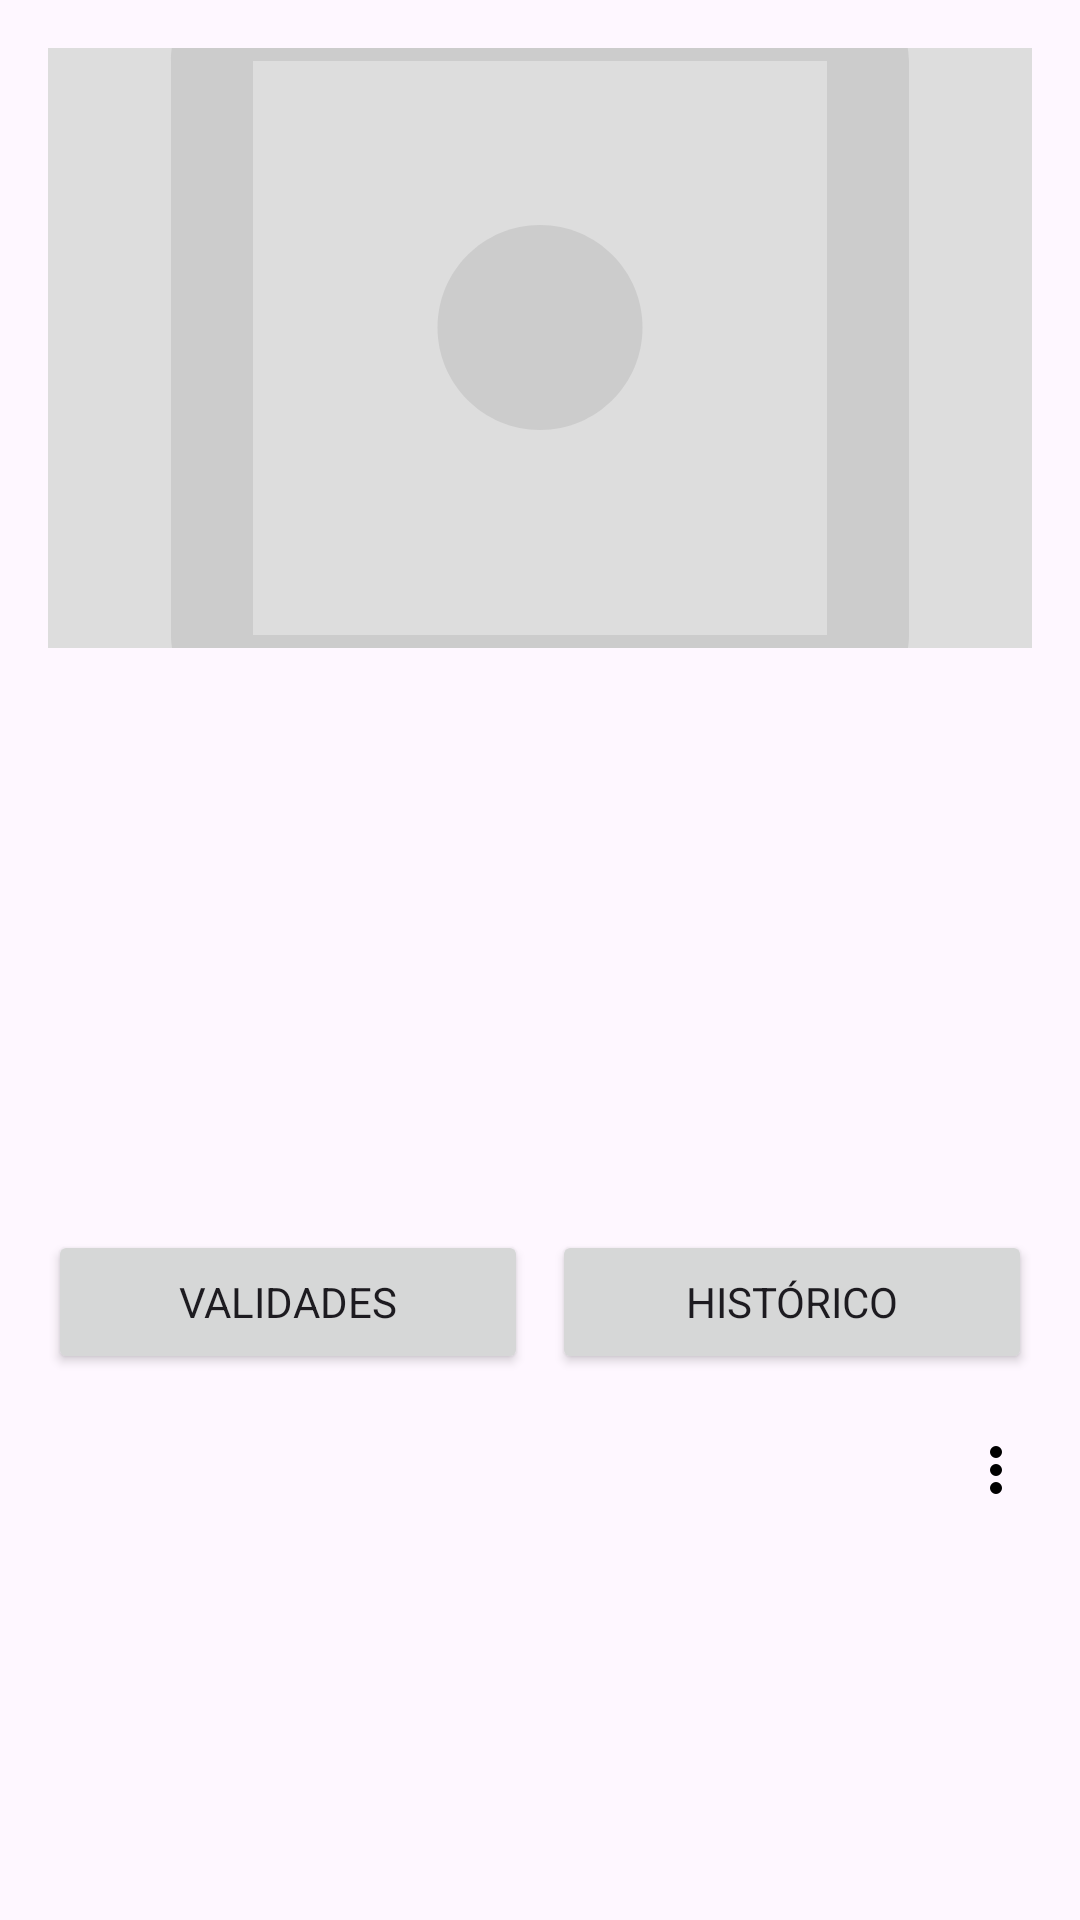

Named icons in this screenshot (1080x1920) and their centers, (x=x, y=y):
more vert: (x=996, y=1470)
